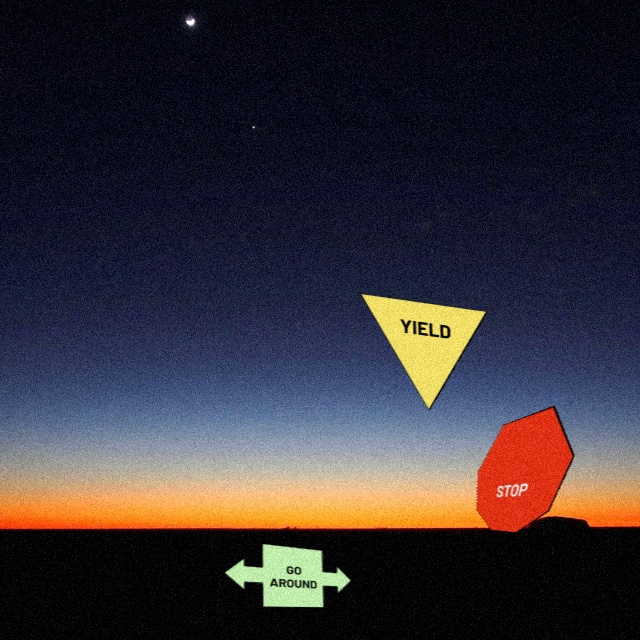GO_AROUND: (224, 543, 352, 608)
STOP: (477, 405, 575, 533)
YIELD: (360, 293, 488, 411)
